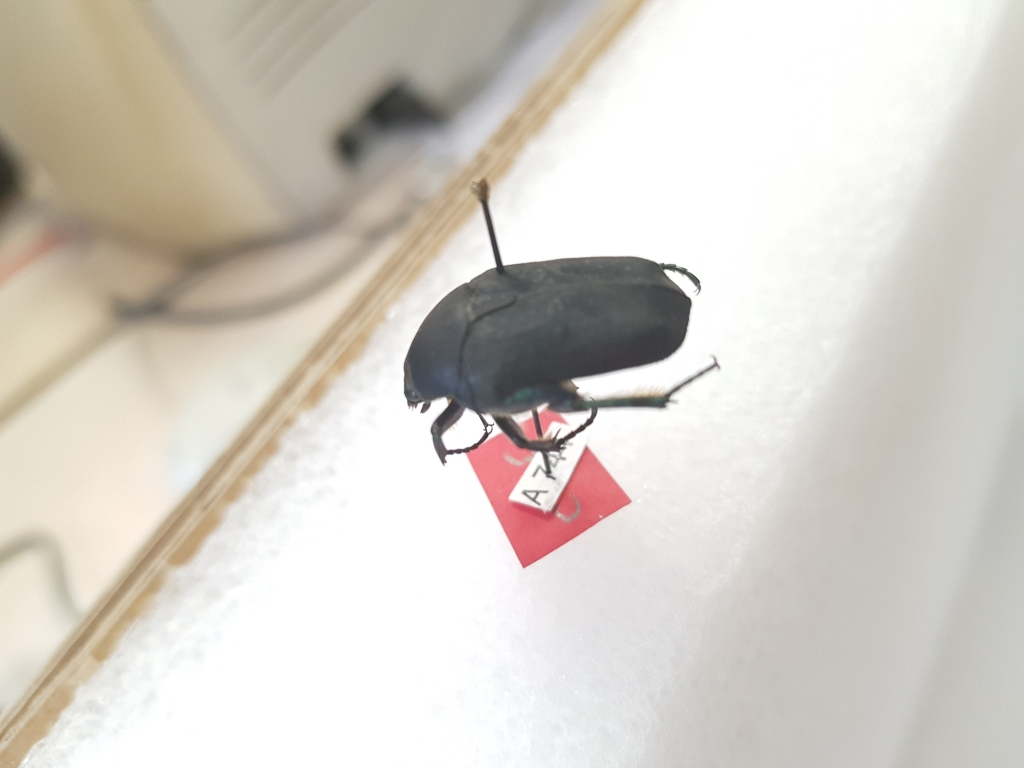Protaetia_afflicta: (398, 253, 723, 470)
